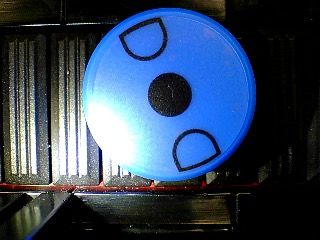BOHOMIPO2: (82, 7, 257, 182)
